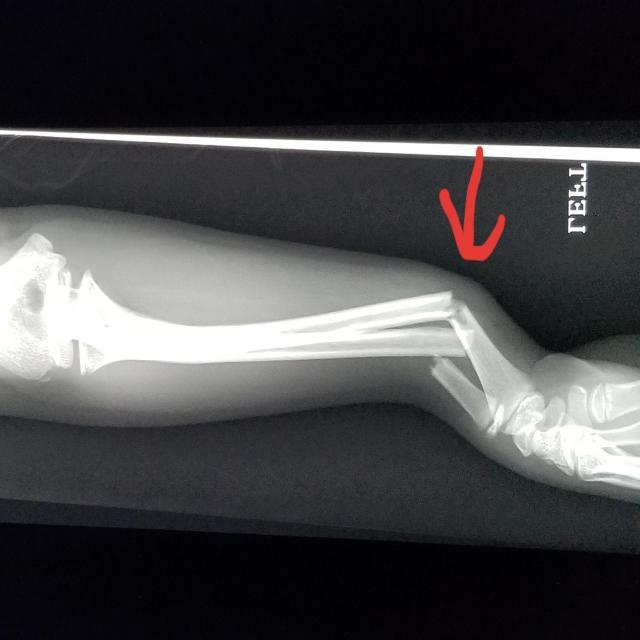bone: (420, 262, 488, 435)
